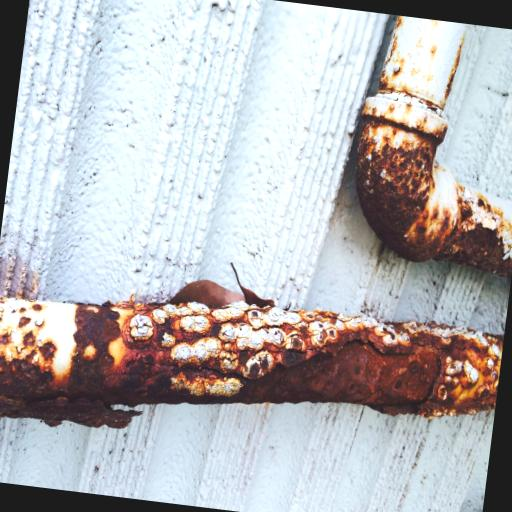segmentation: (0, 282, 504, 428), (357, 16, 512, 276), (426, 363, 499, 412)
